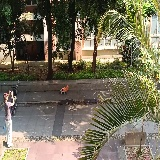fire: (61, 85, 69, 91)
